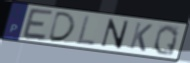D: (46, 11, 77, 43)
E: (21, 7, 55, 42)
K: (128, 21, 154, 53)
L: (75, 14, 96, 47)
N: (99, 18, 131, 50)
Q: (152, 24, 180, 57)
